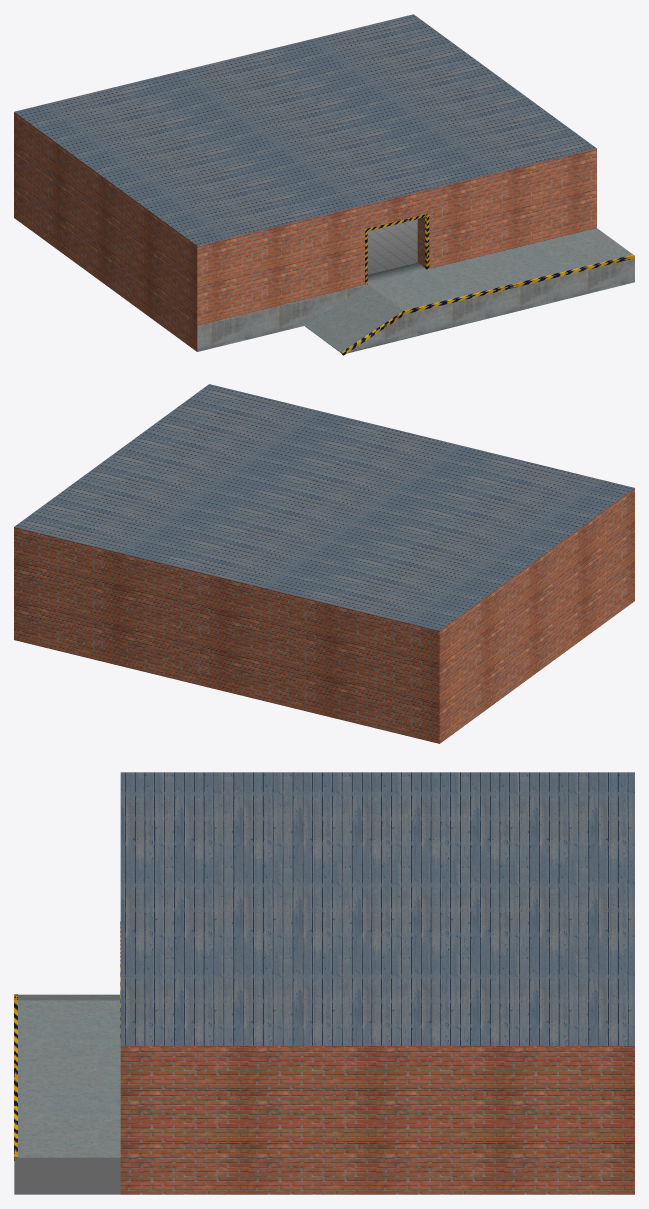
Rendered from wylewalnie.FBX.
The picture shows the model from 3 angles, top to bottom: view 1: azimuth 30°, elevation 25°; view 2: azimuth 150°, elevation 25°; view 3: azimuth 270°, elevation 25°; orthographic projection. The views are drawn at different scales.
Visible parts, largest first — view 1: Box001, Line001, Line002; view 2: Box001; view 3: Box001, Line001.
Part boxes in pixels (x1,y1,x2,y2): Box001: (14,14,634,353); Line001: (341,254,634,355); Line002: (365,213,429,284); Box001: (14,384,634,743); Box001: (14,772,634,1194); Line001: (14,994,17,1160).
Size of the model in its own units: 15.76 by 15.12 by 4.08.
9 materials, 6 textured.
